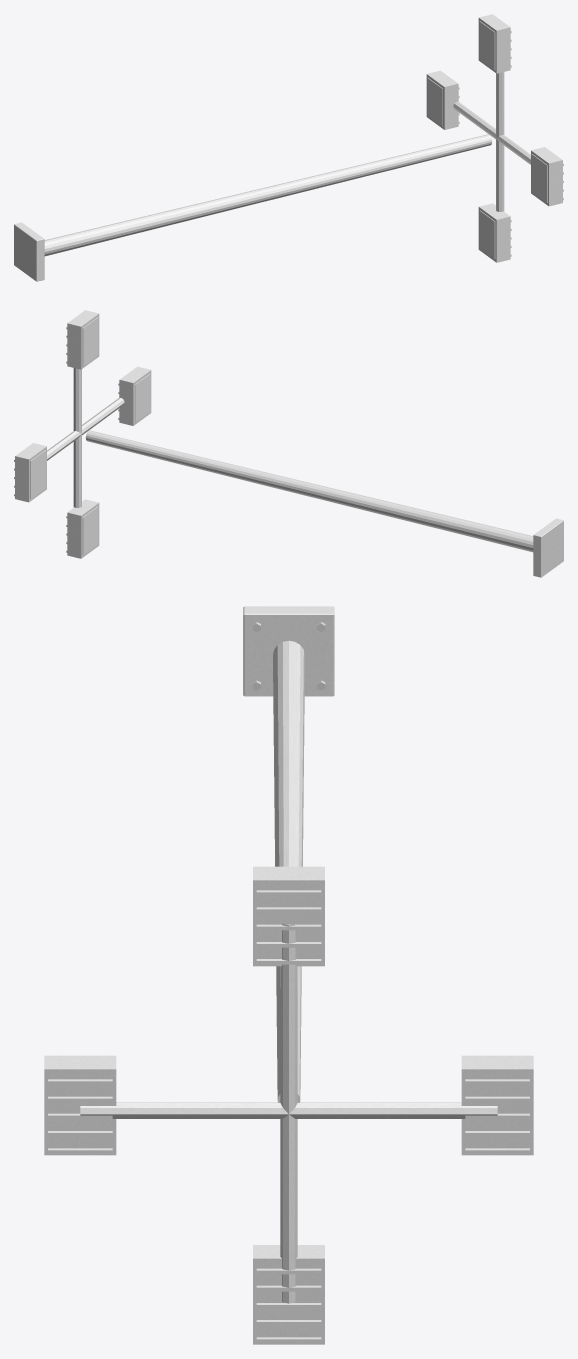
File: quadparkinglight.obj
3 views of the same model, one above another, from view 1: azimuth 30°, elevation 25°; view 2: azimuth 150°, elevation 25°; view 3: azimuth 270°, elevation 25° (orthographic). The views are drawn at different scales.
Visible parts, largest first — view 1: Metal, Base, Head0Metal, Head2Metal, Head3Metal, Head1Metal, Light2, Light0, Light1, Light3; view 2: Metal, Base, Head0Metal, Head2Metal, Head1Metal, Head3Metal, Light2, Light0, Light3, Light1; view 3: Metal, Base, Head1Metal, Head3Metal, Head0Metal, Head2Metal, Head1Trim, Head3Trim, Head0Trim, Head2Trim.
Boxes of the visible parts, x1=… form: Metal: x1=44, y1=72, x2=530, y2=256; Base: x1=14, y1=222, x2=44, y2=281; Head0Metal: x1=478, y1=14, x2=510, y2=73; Head2Metal: x1=478, y1=203, x2=510, y2=262; Head3Metal: x1=426, y1=70, x2=458, y2=129; Head1Metal: x1=531, y1=147, x2=562, y2=206; Light2: x1=479, y1=210, x2=495, y2=259; Light0: x1=479, y1=21, x2=495, y2=69; Light1: x1=531, y1=154, x2=547, y2=202; Light3: x1=427, y1=77, x2=442, y2=126; Metal: x1=47, y1=368, x2=533, y2=552; Base: x1=533, y1=518, x2=563, y2=577; Head0Metal: x1=67, y1=310, x2=99, y2=369; Head2Metal: x1=67, y1=499, x2=99, y2=558; Head1Metal: x1=119, y1=366, x2=151, y2=425; Head3Metal: x1=15, y1=443, x2=46, y2=502; Light2: x1=82, y1=506, x2=98, y2=555; Light0: x1=82, y1=317, x2=98, y2=365; Light3: x1=30, y1=450, x2=46, y2=498; Light1: x1=135, y1=373, x2=150, y2=422; Metal: x1=80, y1=640, x2=497, y2=1303; Base: x1=243, y1=606, x2=334, y2=696; Head1Metal: x1=44, y1=1055, x2=116, y2=1155; Head3Metal: x1=461, y1=1055, x2=533, y2=1155; Head0Metal: x1=253, y1=866, x2=324, y2=966; Head2Metal: x1=253, y1=1245, x2=324, y2=1344; Head1Trim: x1=48, y1=1079, x2=112, y2=1153; Head3Trim: x1=465, y1=1079, x2=529, y2=1153; Head0Trim: x1=256, y1=890, x2=321, y2=964; Head2Trim: x1=256, y1=1268, x2=321, y2=1342.
Size of the model in its own units: 5.82 by 2.7 by 2.58.
